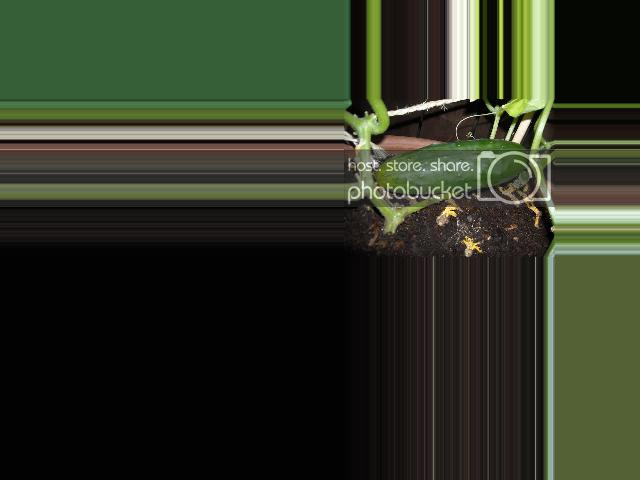cucumber: (376, 139, 527, 195)
